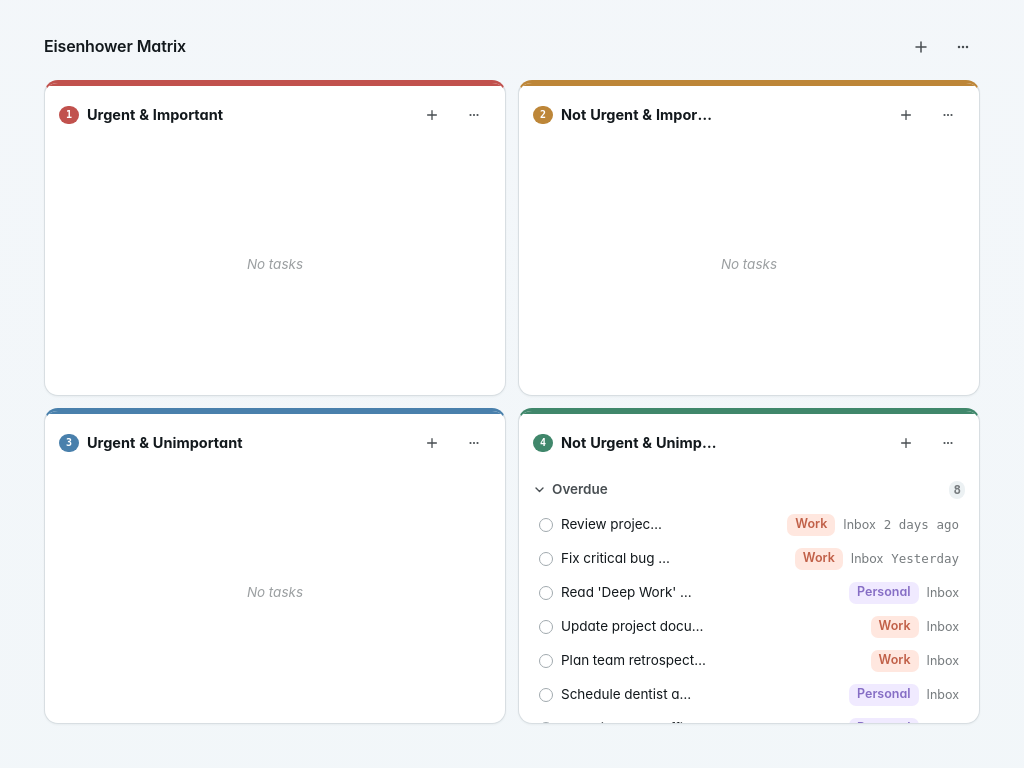
Test case: MatrixModule card create › T-MCR-1: save creates a card; it renders in the correct quadrant; count increments
The width and height of the screenshot is (1024, 768).
Click the button named "add". click: (921, 47)
box: [904,30,938,64]
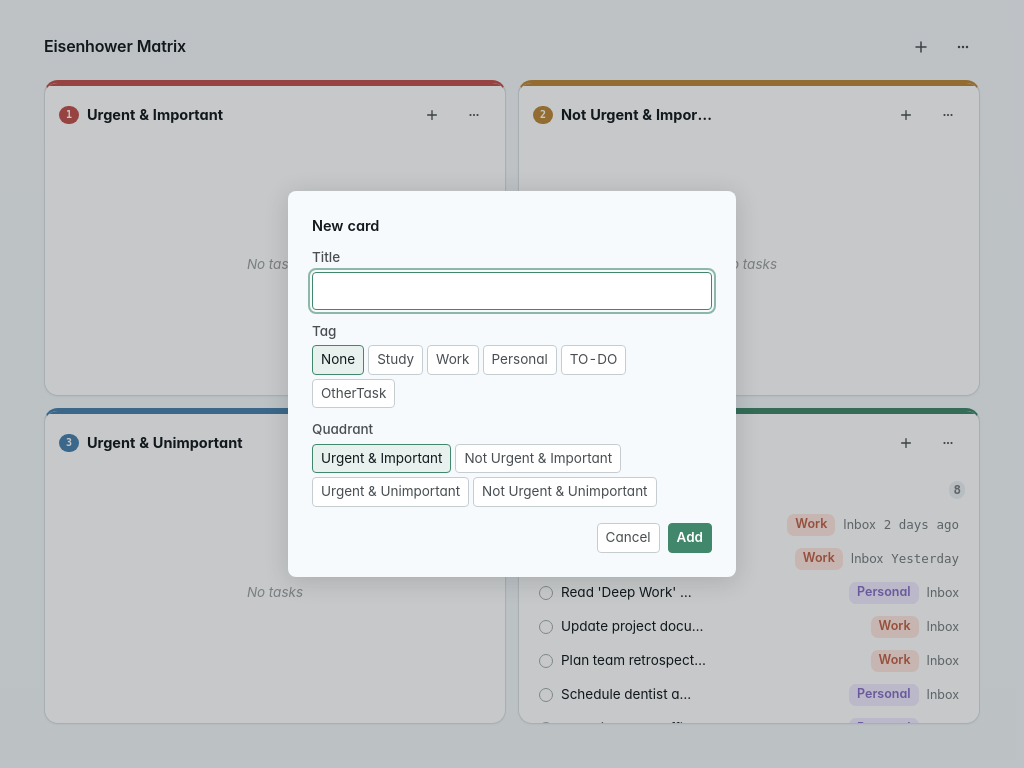
Now the field labelled "Title" is shown
Type "My brand new card" into the field labelled "Title". click: (512, 291)
box: [312,272,712,310]
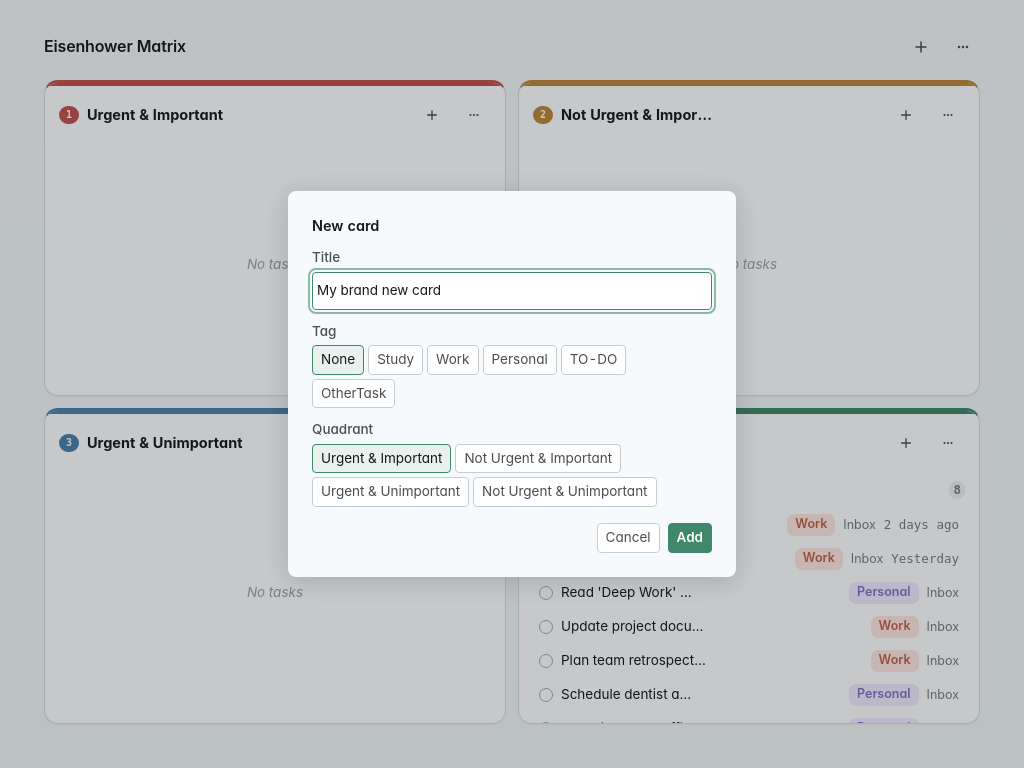
Now the button "Add" is shown
Click the button "Add". click: (690, 538)
box: [668,523,712,553]
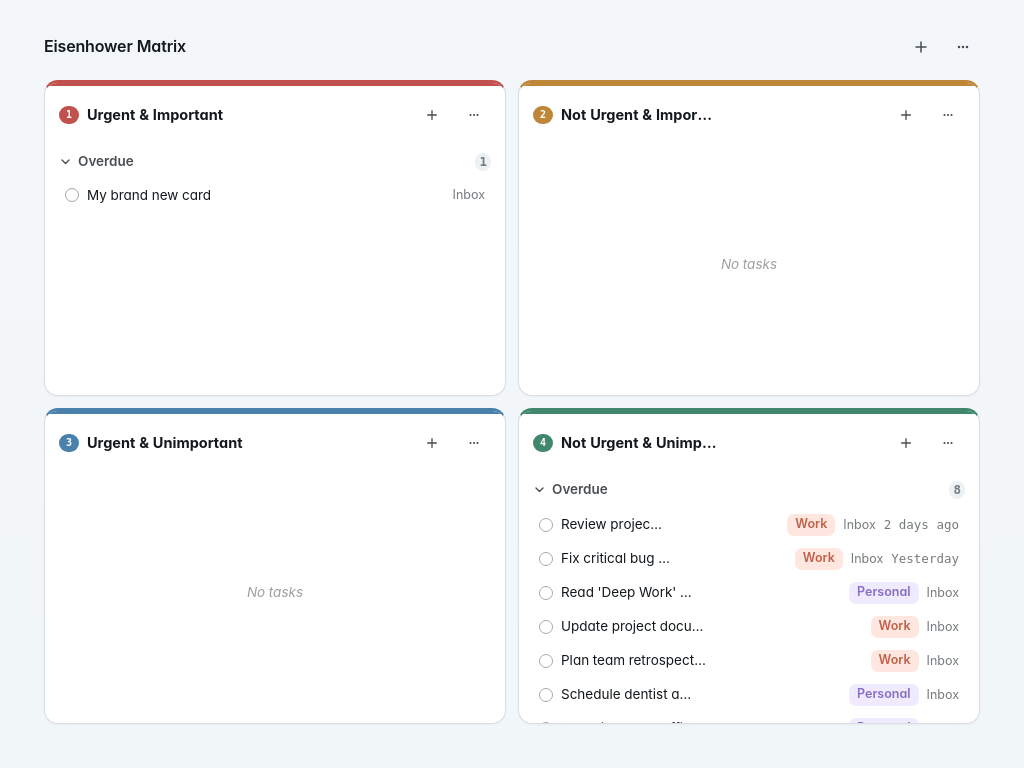
Now the text "My brand new card" is shown, box [87,187,211,203]
